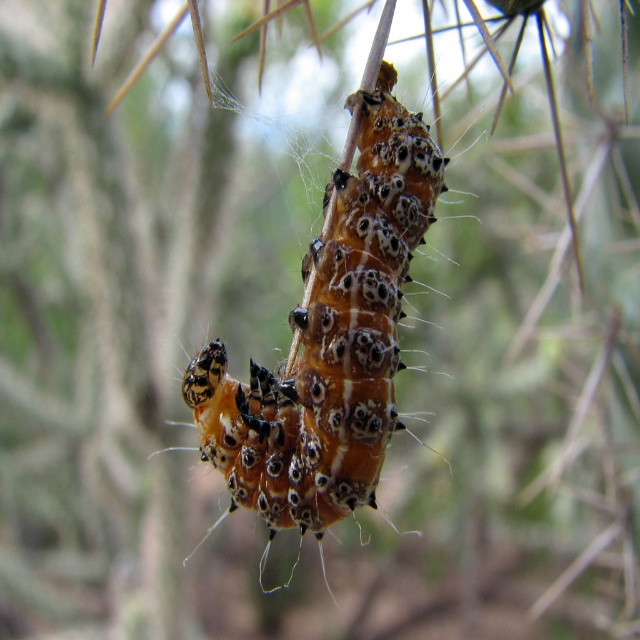Caterpillar: (150, 44, 492, 606)
